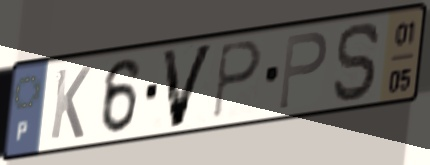6: (98, 56, 144, 136)
K: (47, 64, 94, 143)
P: (210, 38, 265, 124), (275, 29, 330, 113)
S: (330, 19, 384, 104)
V: (159, 40, 218, 132)
